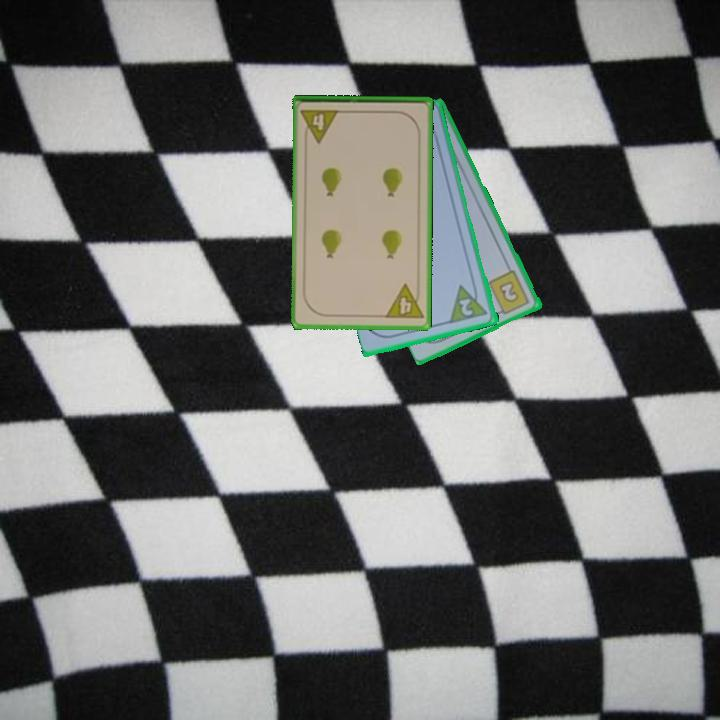2b: (485, 267, 533, 318)
2p: (447, 279, 491, 326)
4p: (382, 281, 426, 322), (298, 106, 342, 145)
